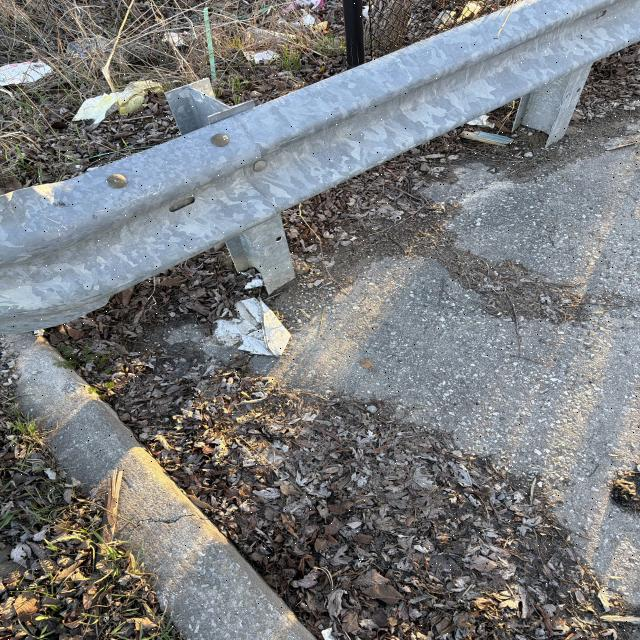Guard rail: (27, 5, 638, 288)
